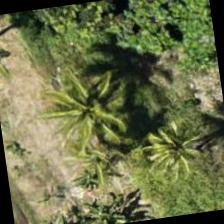Kelapa_Sawit: (39, 59, 140, 161), (134, 93, 223, 196)
